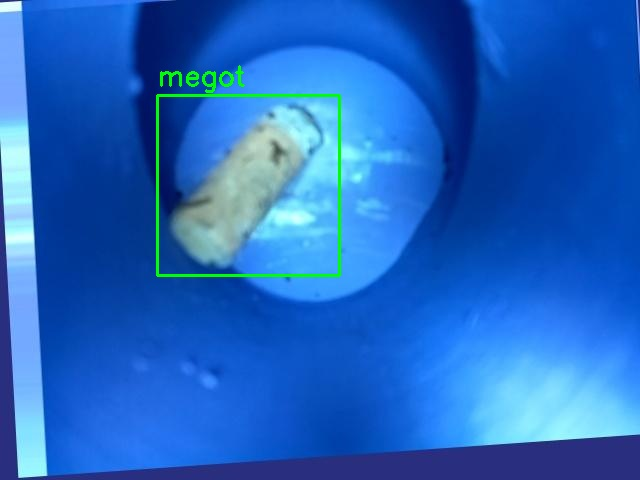megot: (157, 95, 339, 275)
